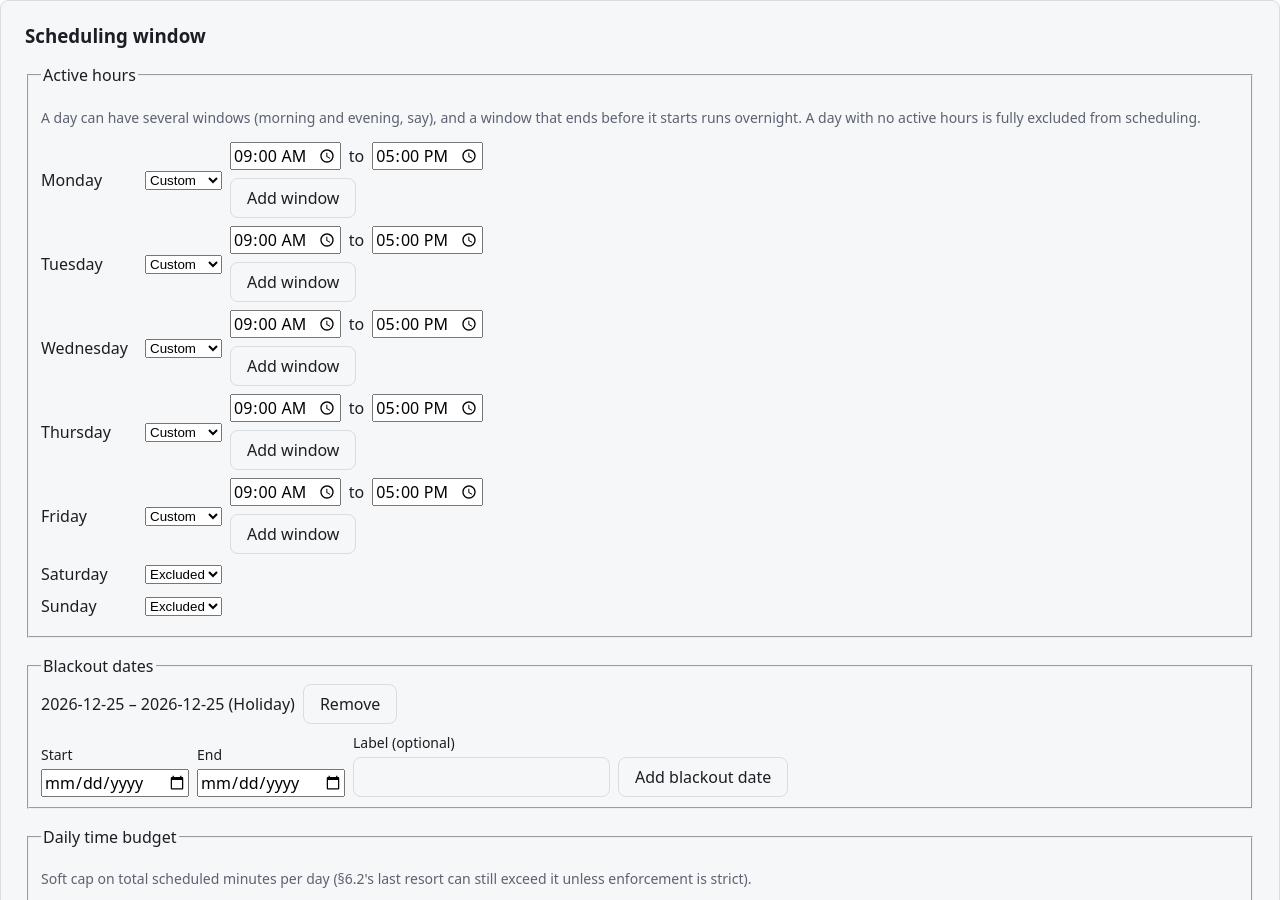
Test: SchedulingWindowSection › adds a blackout date
Type "2026-07-01" into the date field labelled "Start" at (115, 783), box [41,769,189,797]
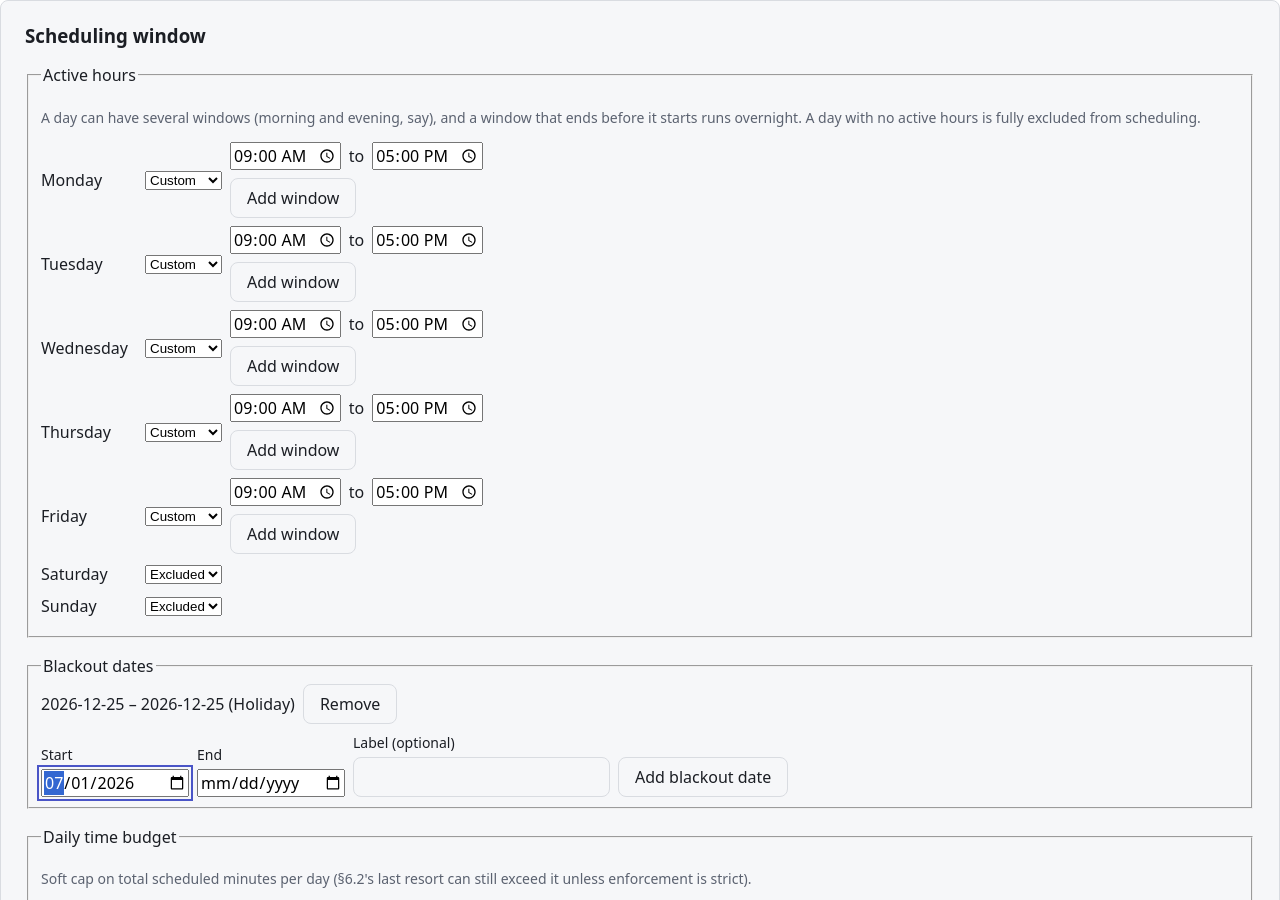
Type "2026-07-04" into the date field labelled "End" at (271, 783), box [197,769,345,797]
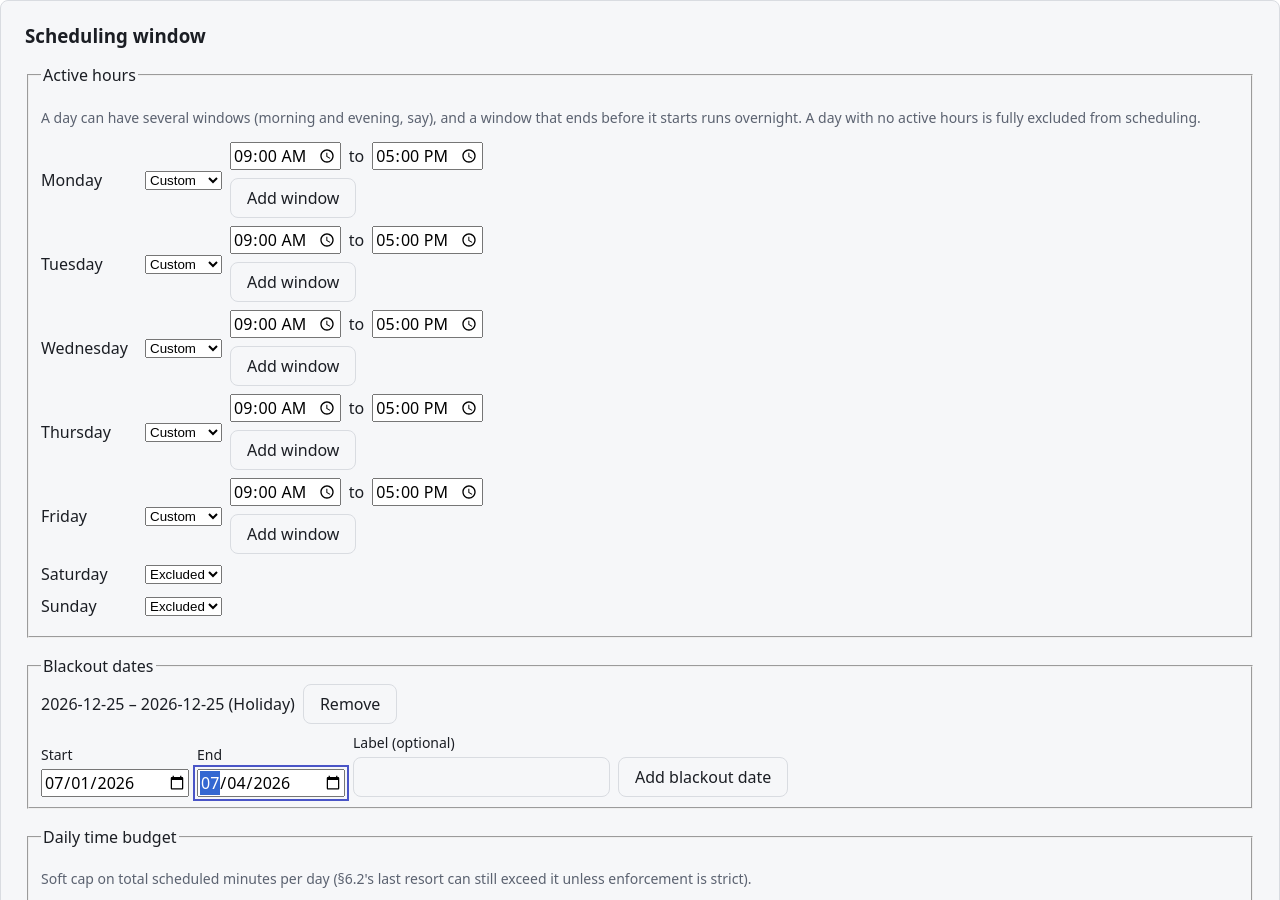
Type "Trip" into the field labelled "Label (optional)" at (482, 777), box [353,757,610,797]
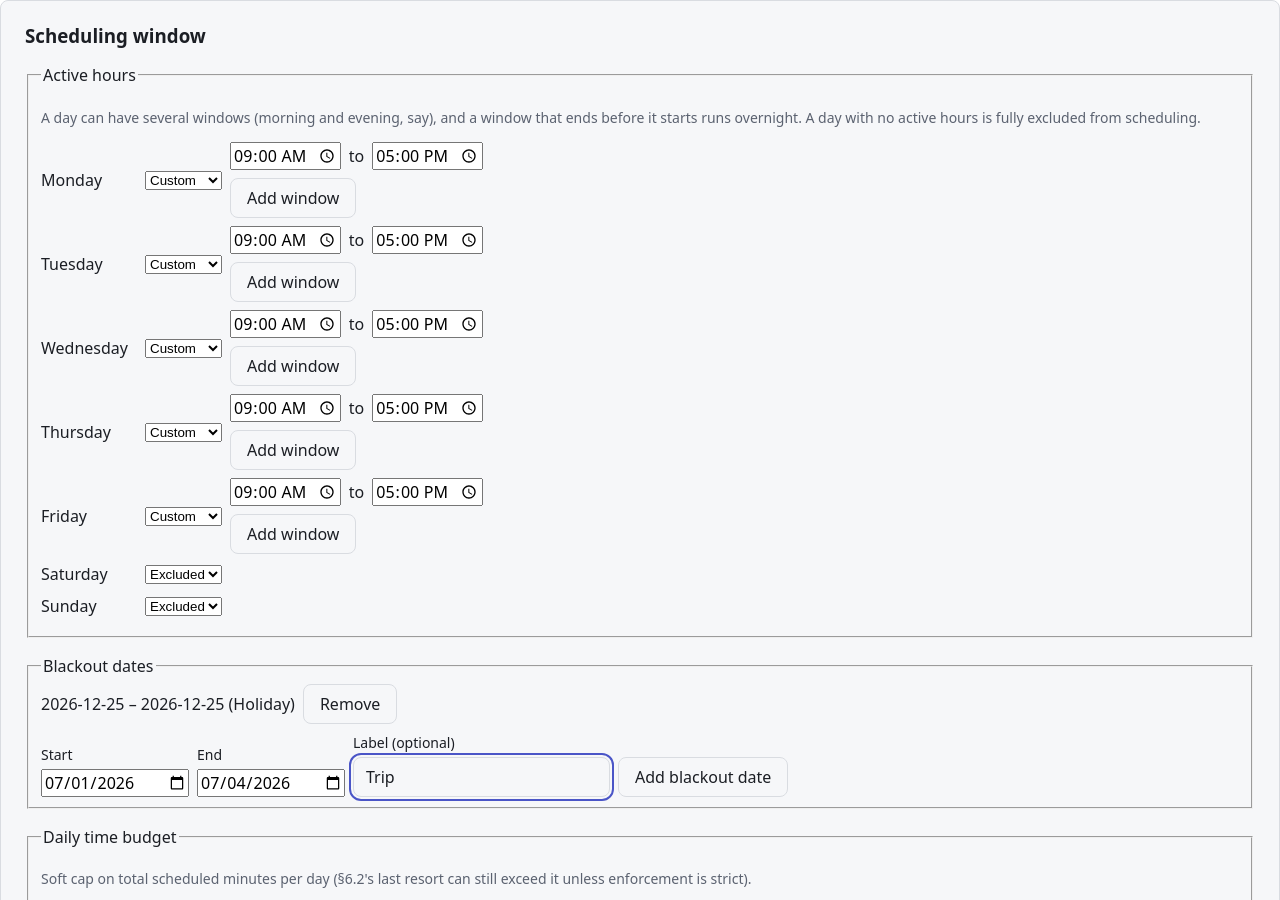
Click the button "Add blackout date" at (703, 777), box [618,757,788,797]
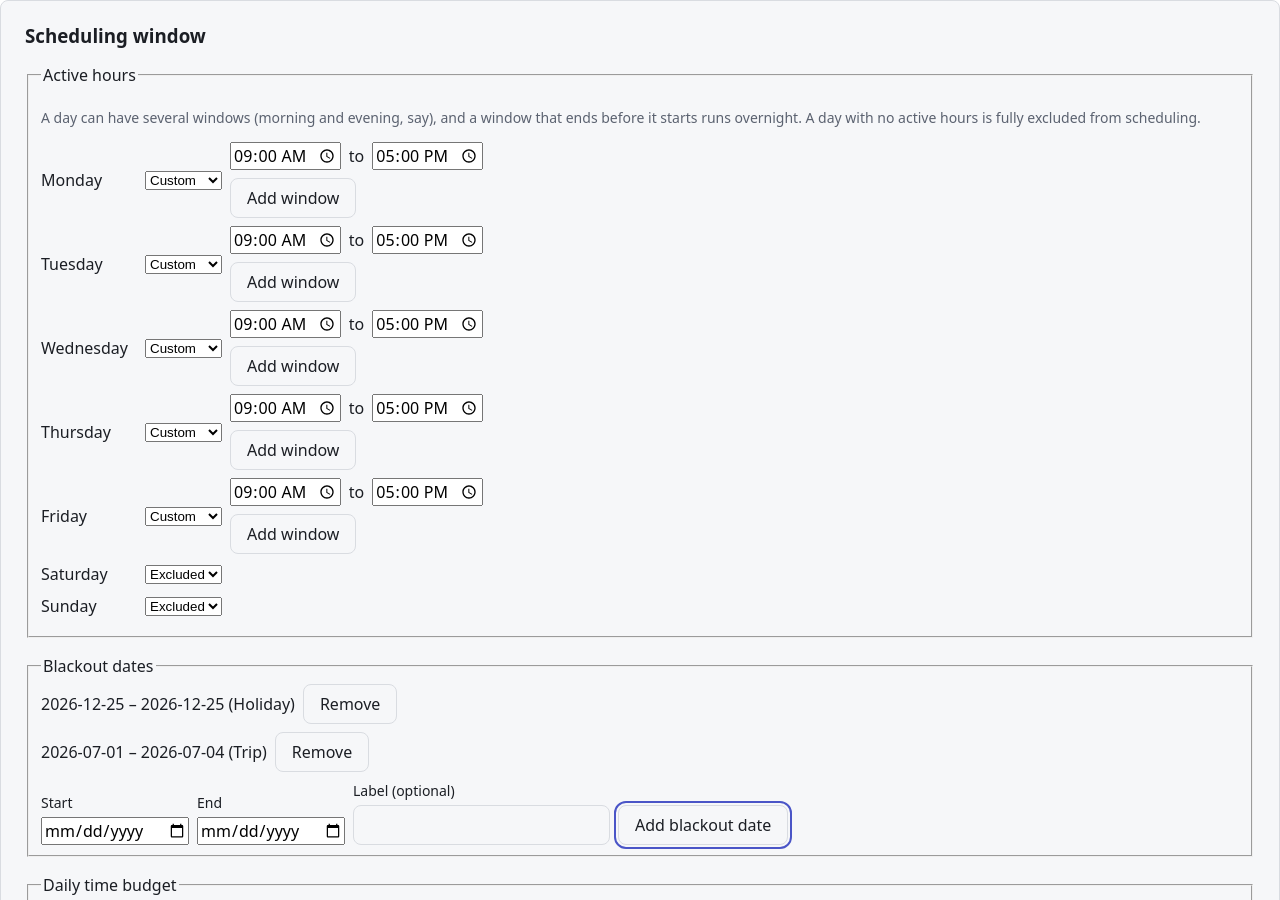
Check: the text "2026-07-01 – 2026-07-04 (Trip)" is shown, box [41,740,267,764]
